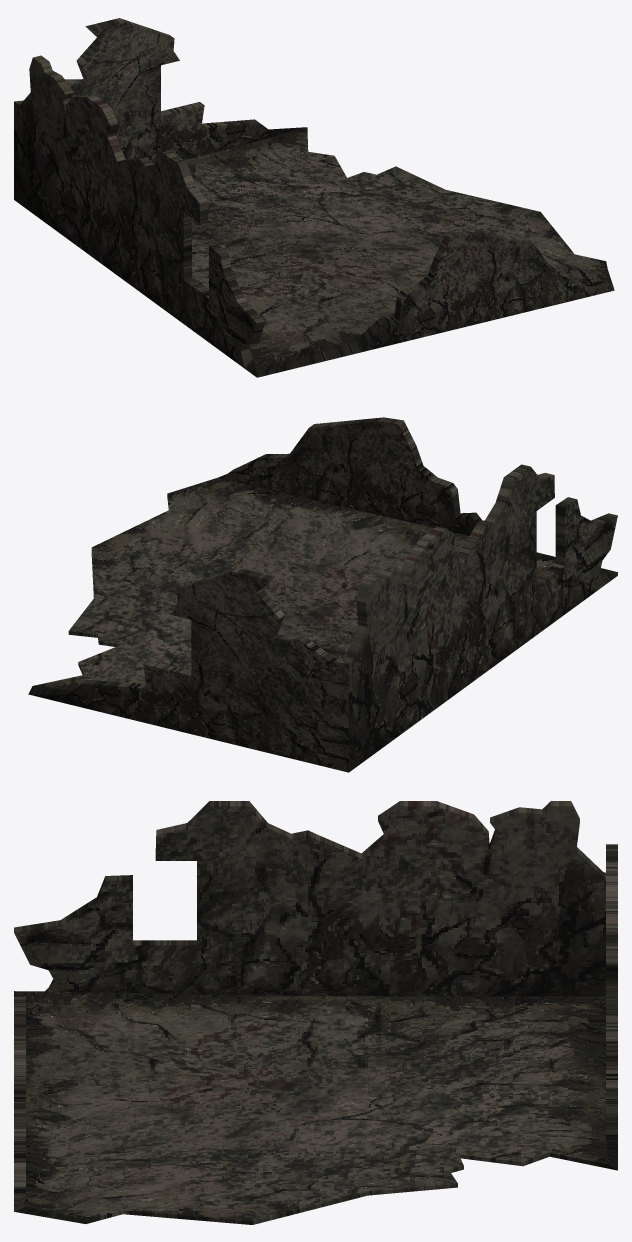
The model's file is ruinas2.glb.
3 renders of one model, top to bottom at view 1: azimuth 30°, elevation 25°; view 2: azimuth 150°, elevation 25°; view 3: azimuth 270°, elevation 25°, orthographic. The views are drawn at different scales.
Visible parts, largest first — view 1: Cube.015; view 2: Cube.015; view 3: Cube.015.
Part boxes in pixels (x1,y1,x2,y2): Cube.015: [14, 18, 614, 377]; Cube.015: [28, 417, 617, 772]; Cube.015: [14, 801, 617, 1224].
Bounding box in the file's own units: 13.99 × 5.38 × 15.2.
Materials: 2 (1 with a texture image).
